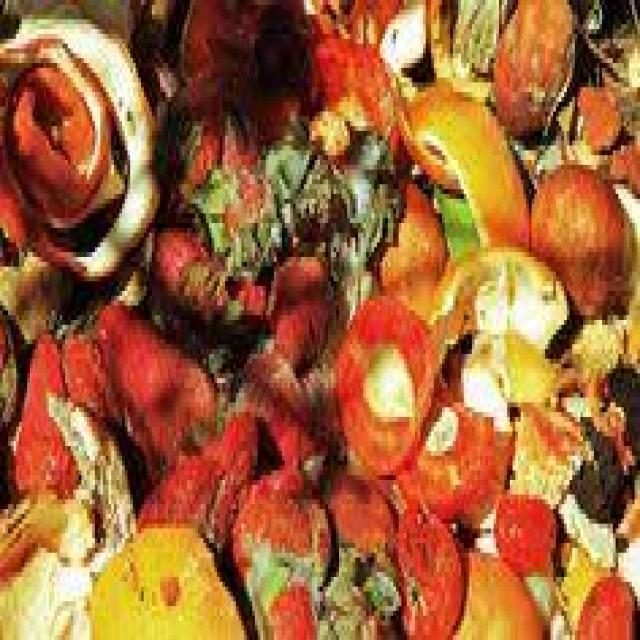food_waste: (20, 83, 627, 612)
